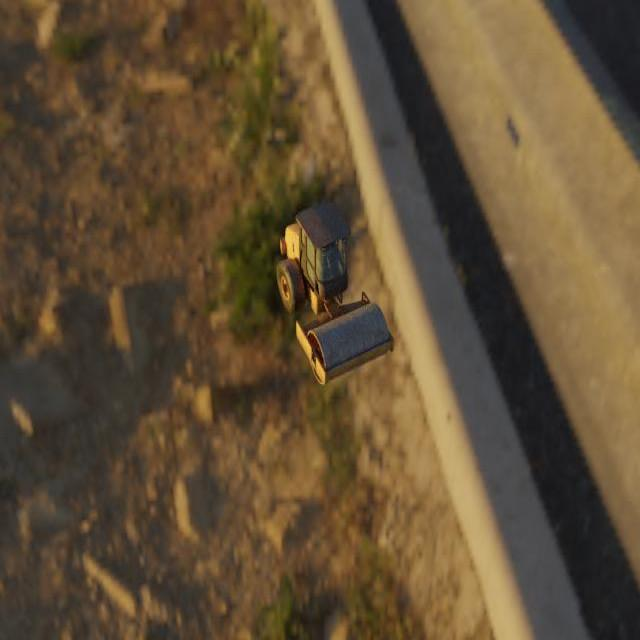Roller: (276, 200, 394, 384)
